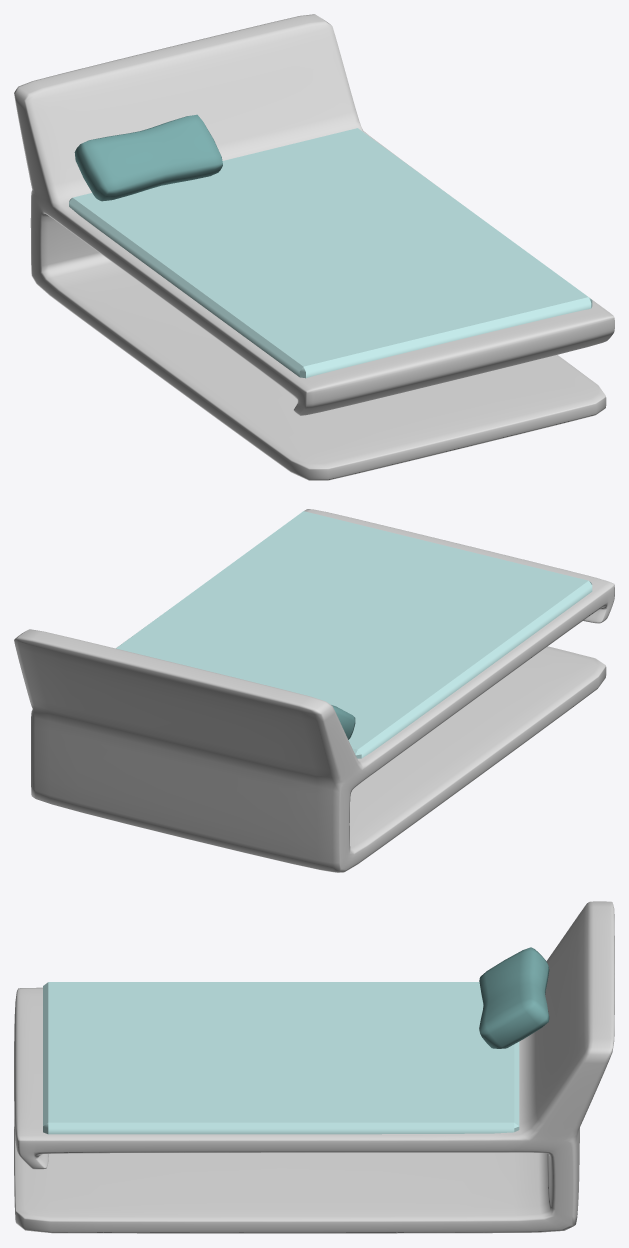
The model's file is bed_cover_pillow.fbx.
3 views of the same model, one above another, from view 1: azimuth 30°, elevation 25°; view 2: azimuth 150°, elevation 25°; view 3: azimuth 270°, elevation 25° (orthographic).
Visible parts, largest first — view 1: polySurface2, polySurface3, polySurface1; view 2: polySurface2, polySurface3; view 3: polySurface2, polySurface3, polySurface1.
Boxes of the visible parts, x1,y1,x2,y2 form: polySurface2: (14, 14, 614, 480); polySurface3: (69, 128, 592, 378); polySurface1: (74, 114, 222, 201); polySurface2: (14, 509, 614, 872); polySurface3: (116, 511, 592, 758); polySurface2: (14, 901, 614, 1233); polySurface3: (43, 982, 519, 1134); polySurface1: (479, 947, 549, 1048).
Bounding box in the file's own units: 1.1 × 0.632 × 1.83.
